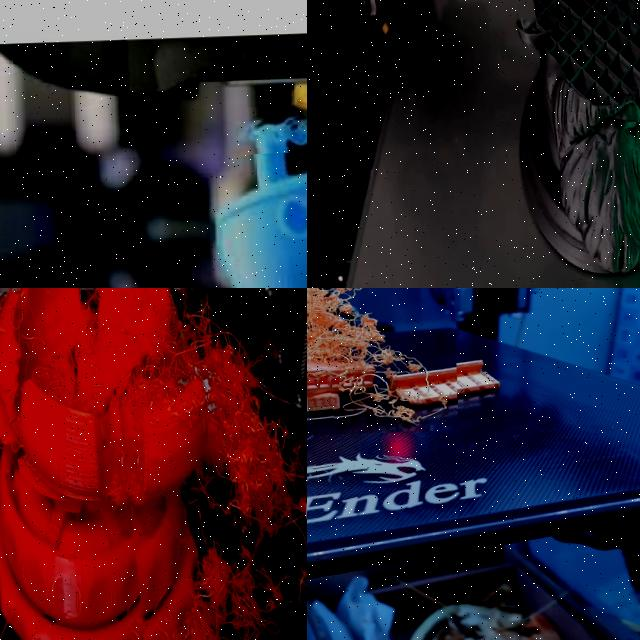spaghetti: (101, 288, 307, 640), (307, 288, 458, 438), (237, 93, 307, 154)
